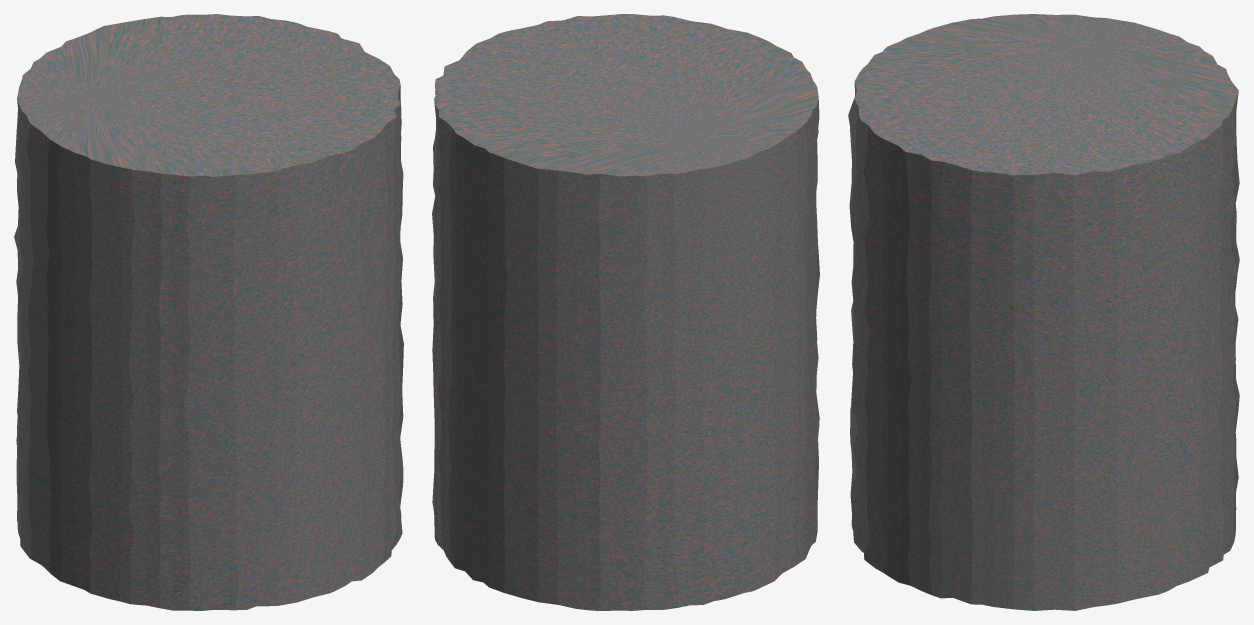
File: barrel_17.dae
3 renders of one model, left to right at view 1: azimuth 30°, elevation 25°; view 2: azimuth 150°, elevation 25°; view 3: azimuth 270°, elevation 25°, orthographic.
Parts seen in each view (by area): view 1: Cylinder; view 2: Cylinder; view 3: Cylinder.
Boxes of the visible parts, box(x1,y1,x2,y2) form: Cylinder: box(14, 14, 403, 610); Cylinder: box(432, 14, 819, 610); Cylinder: box(848, 14, 1239, 610).
Size of the model in its own units: 0.8154 by 0.8163 by 1.
1 material, 1 textured.
